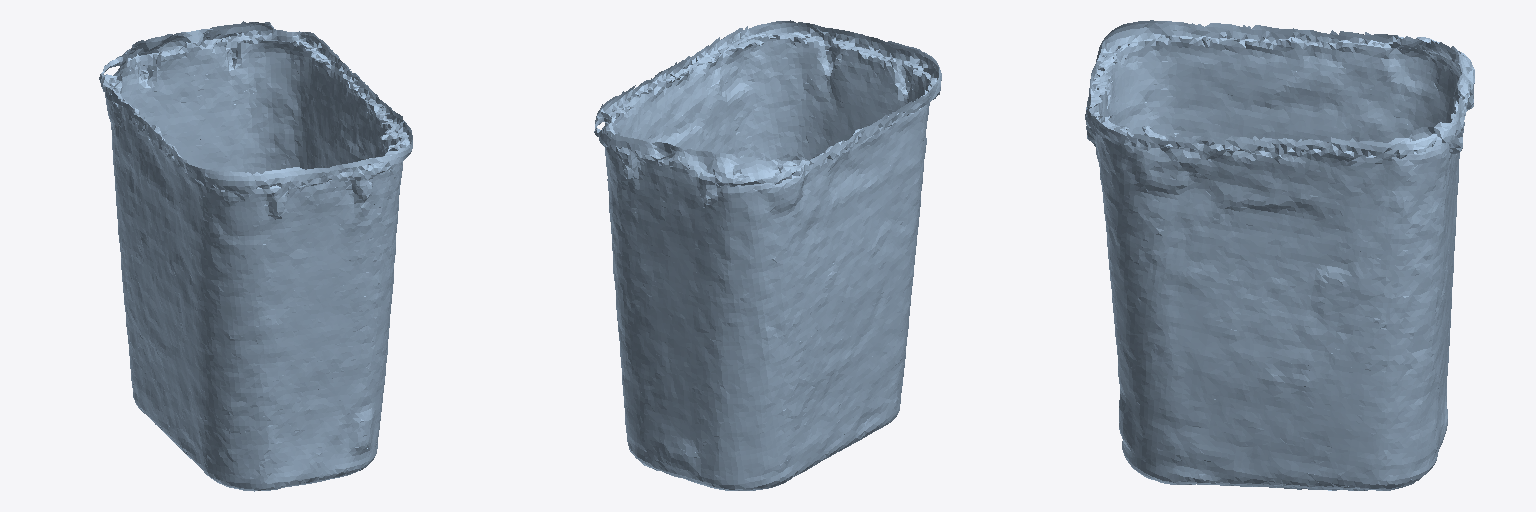
robot.urdf — trashcan.urdf:
<?xml version="1.0" ?>
<robot name="trashcan.urdf">
  <dynamics damping="0.5" friction="0.9"/>
  <link name="baseLink">
    <contact>
      <lateral_friction value="0.9"/>
      <rolling_friction value="0.5"/>
      <stiffness value="30000"/>
      <damping value="1000"/>
    </contact>
    <visual>
      <origin rpy="0 0 0" xyz="0 0 0"/>
      <geometry>
        <mesh filename="meshes/trashcan/trashcan.stl" scale="1.0 1.0 1.0"/>
      </geometry>
       <material name="mat">
        <color rgba="0.7 0.8 0.9 1"/>
      </material>
    </visual>
    <collision>
      <origin rpy="0 0 0" xyz="0 0 0"/>
      <geometry>
	 	<mesh filename="meshes/trashcan/trashcan.stl" scale="1.0 1.0 1.0"/>
      </geometry>
    </collision>
  </link>
</robot>

--- Facts derived from the render (not from the file) ---
The picture shows the robot from 3 angles, left to right: view 1: azimuth 30°, elevation 25°; view 2: azimuth 150°, elevation 25°; view 3: azimuth 270°, elevation 25°; orthographic projection.
Model trashcan.urdf with 1 links and 0 joints (none), rooted at baseLink, posed all joints at 0.
Links seen in each view (by area): view 1: baseLink; view 2: baseLink; view 3: baseLink.
Boxes of the visible links, <box> form: baseLink: <box>99,21,412,491</box>; baseLink: <box>594,20,941,490</box>; baseLink: <box>1085,20,1474,490</box>.
Bounding box of the posed robot: 0.2292 × 0.3083 × 0.337 m (x, y, z).
1 mesh visuals loaded from 1 distinct referenced files (1 binary STL).
